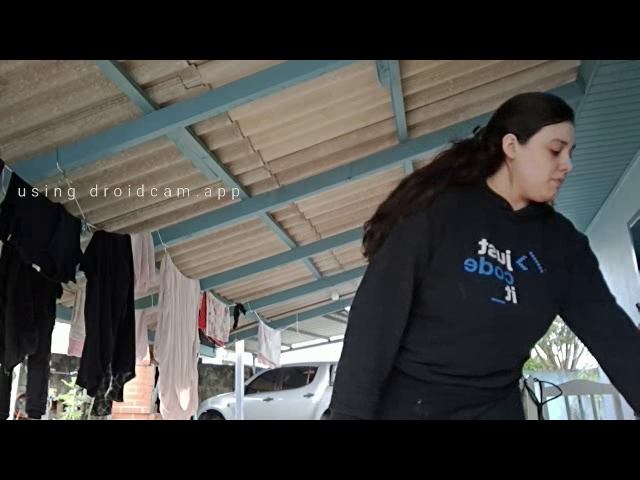MULHER: (474, 78, 591, 241)
